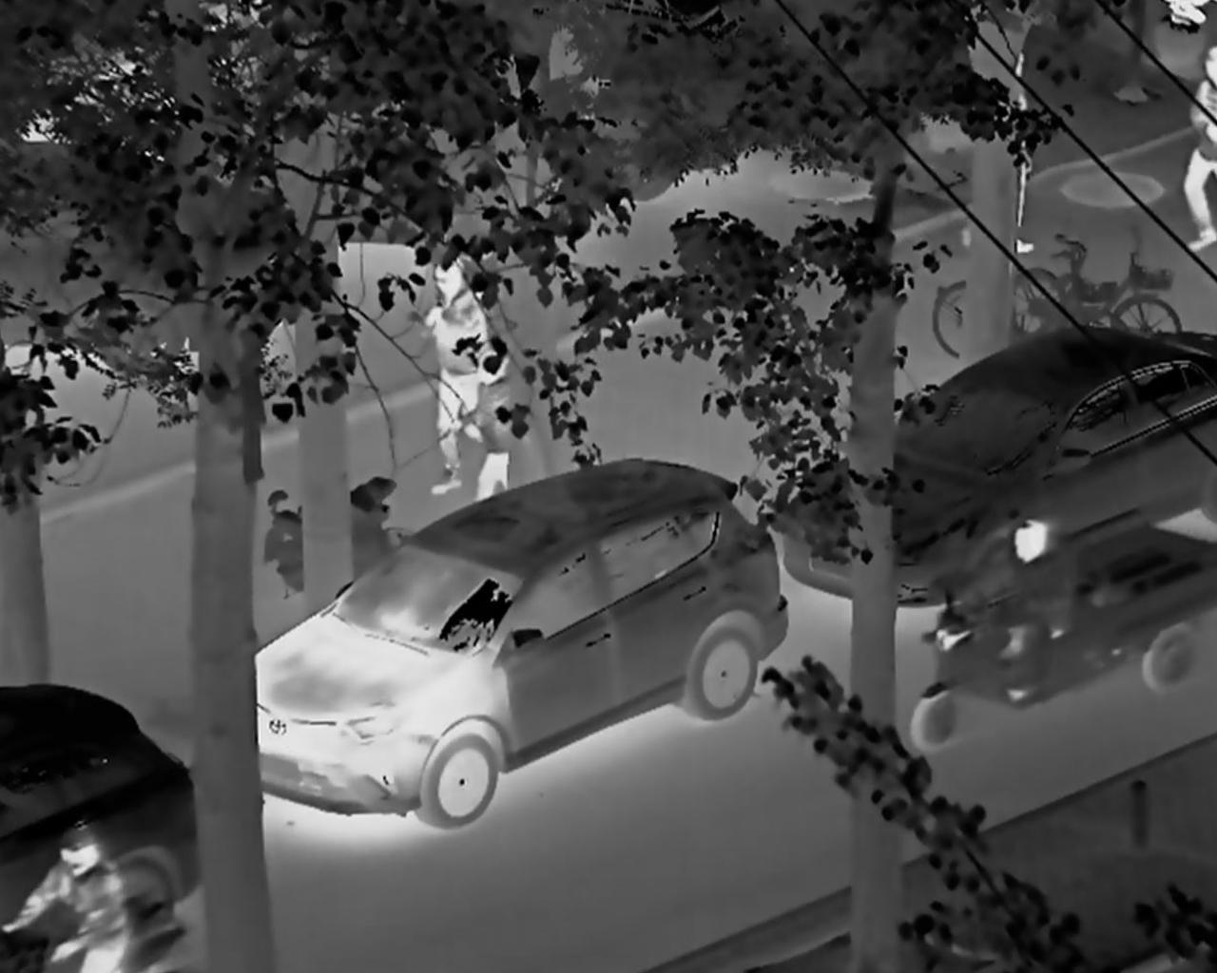person: (402, 256, 493, 501), (10, 830, 130, 973), (1182, 42, 1217, 276), (472, 351, 512, 500)
